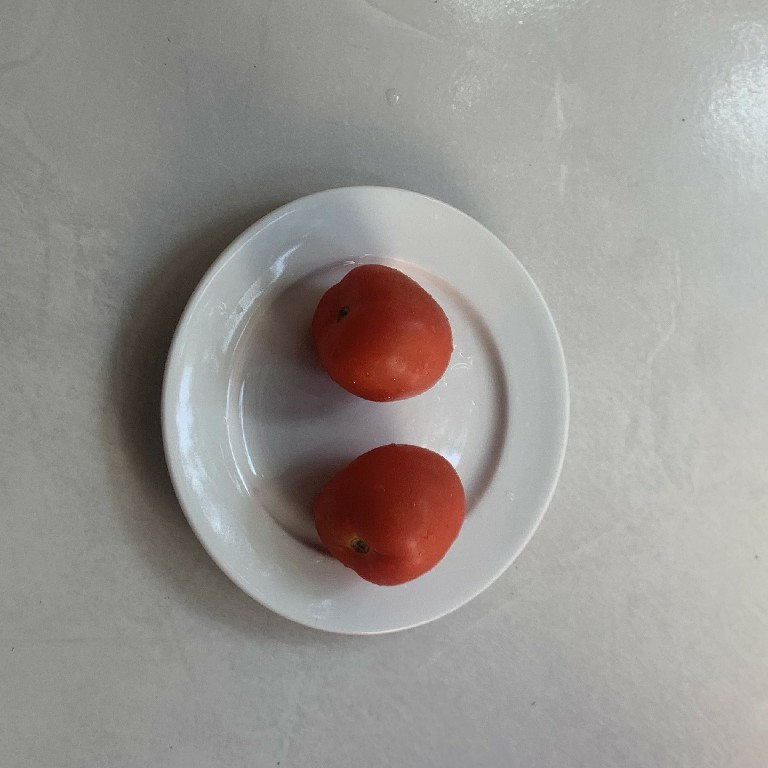OK: (312, 433, 471, 591), (309, 259, 457, 404)
